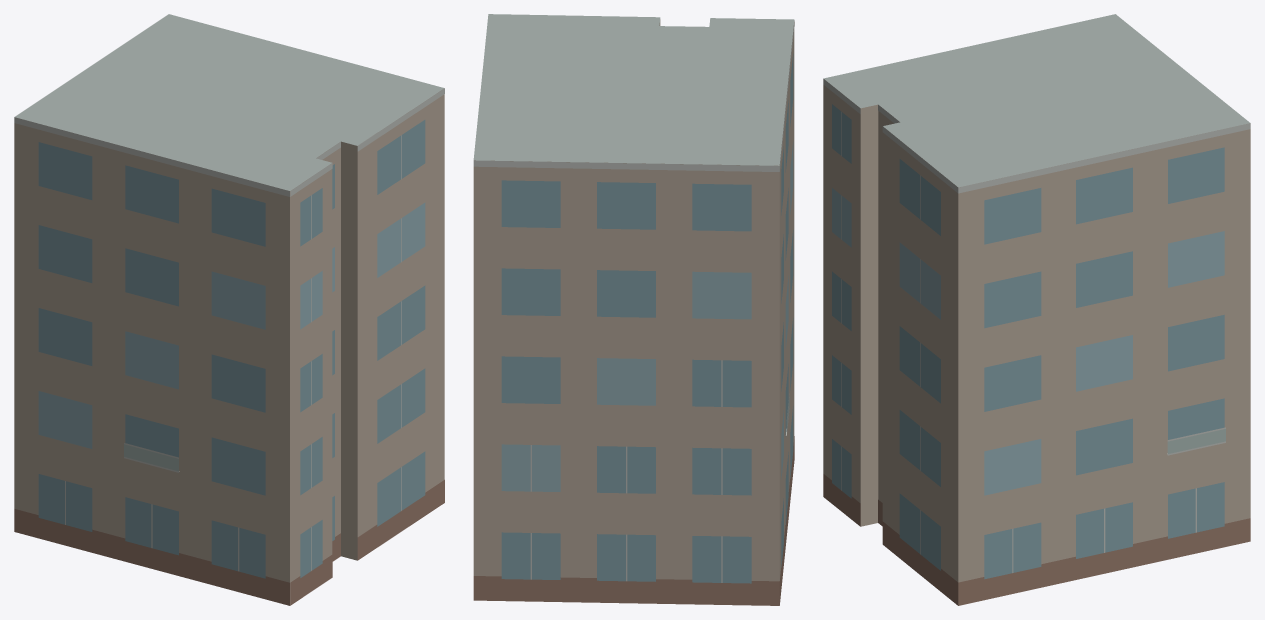
File: survey-upis-32781149.glb
The picture shows the model from 3 angles, left to right: view 1: azimuth 30°, elevation 25°; view 2: azimuth 150°, elevation 25°; view 3: azimuth 270°, elevation 25°; orthographic projection. The views are drawn at different scales.
Parts seen in each view (by area): view 1: survey-upis-32781149.tmp; view 2: survey-upis-32781149.tmp; view 3: survey-upis-32781149.tmp.
Part boxes in pixels (x1,y1,x2,y2): survey-upis-32781149.tmp: [14, 14, 444, 605]; survey-upis-32781149.tmp: [473, 14, 794, 605]; survey-upis-32781149.tmp: [823, 14, 1250, 605].
Size of the model in its own units: 15.13 by 17 by 15.74.
